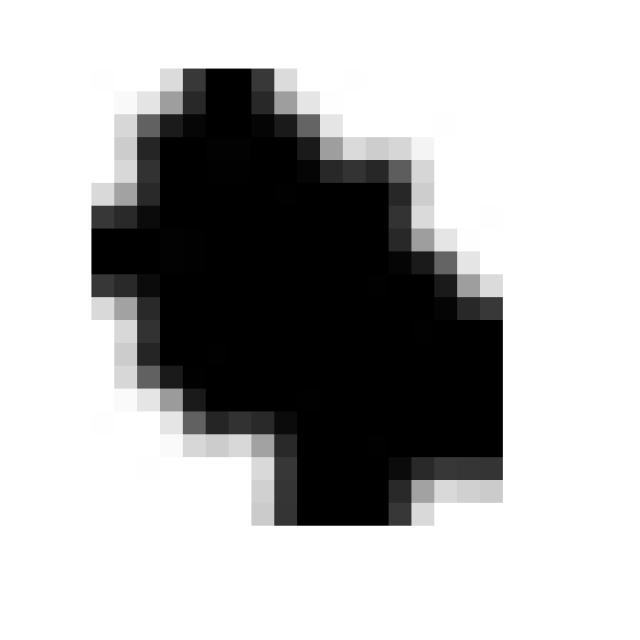0 -zero-: (68, 48, 516, 543)
